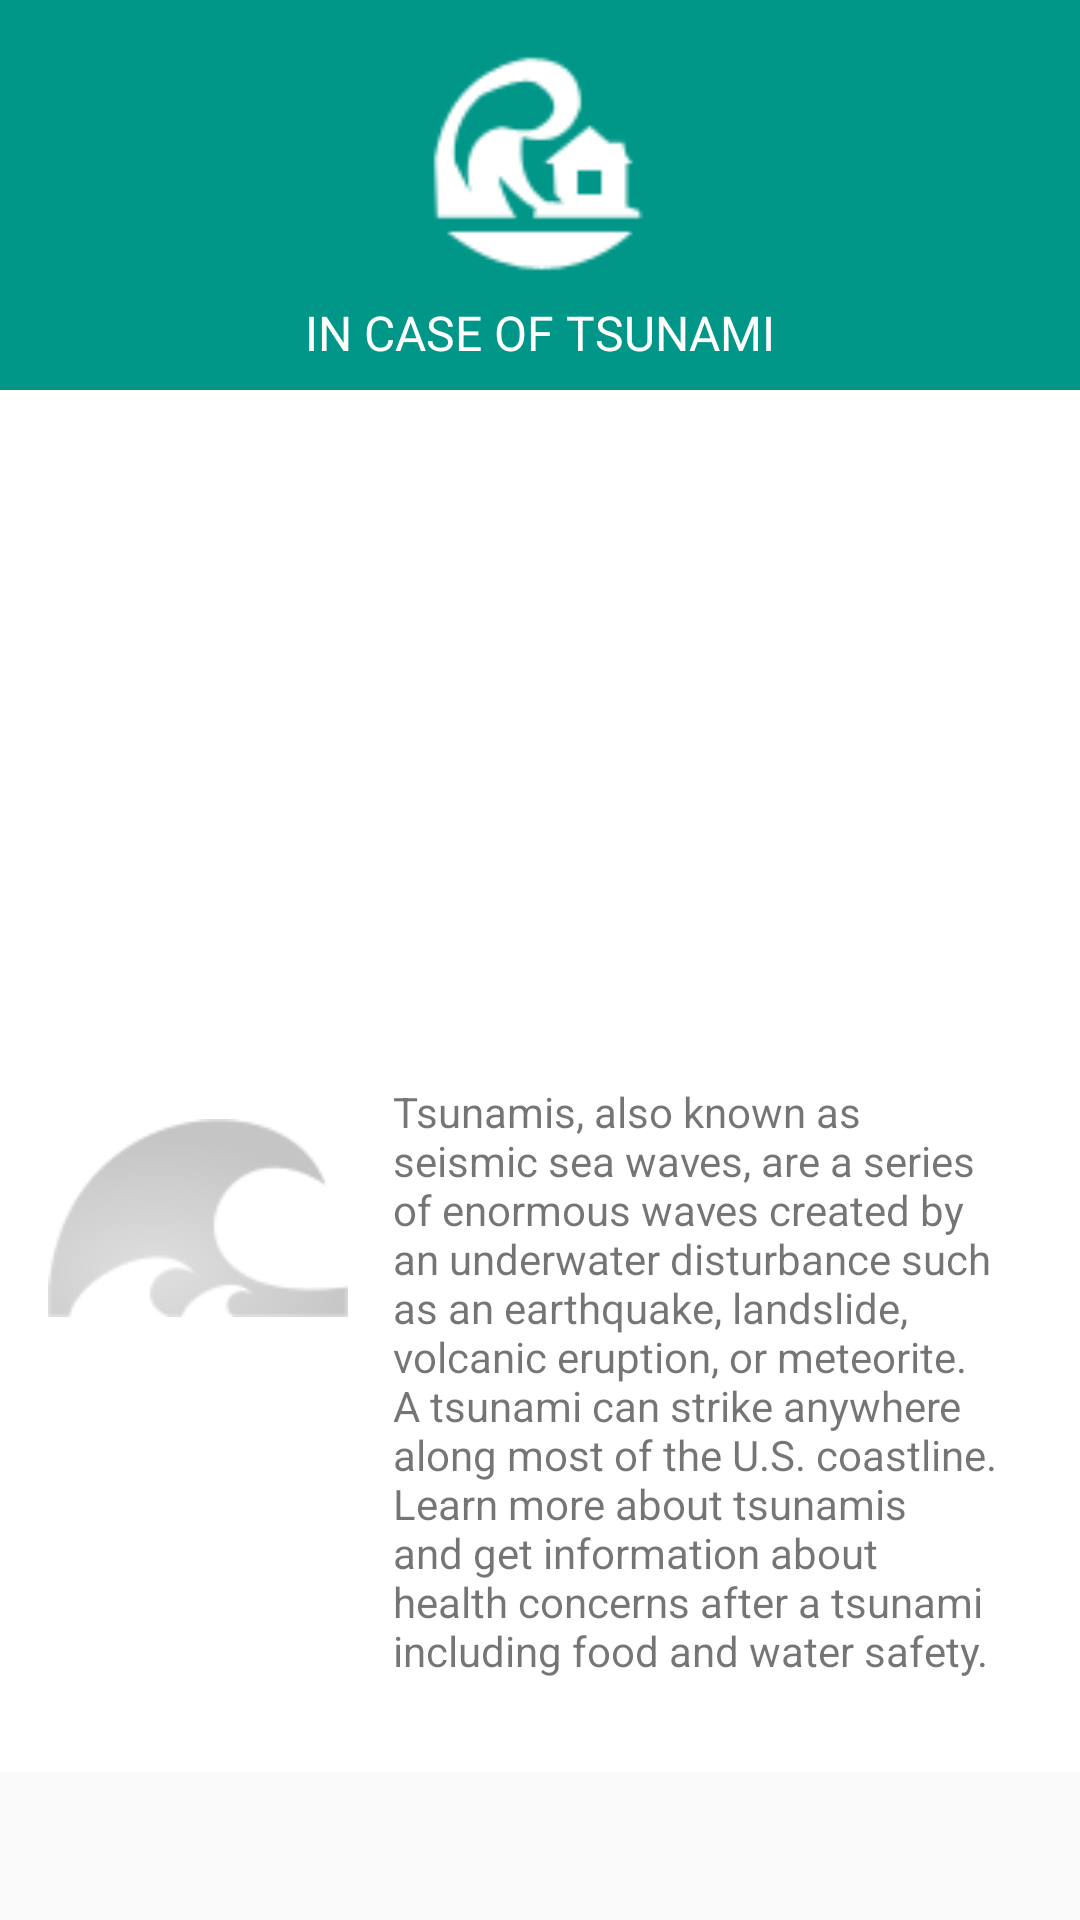

Named icons in this screenshot (1080w x 1920h) and their centers, (x=x, y=y):
tsunami square: (x=538, y=164)
